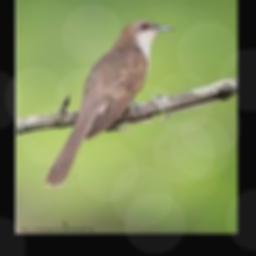Cuckoo: (45, 20, 175, 185)
